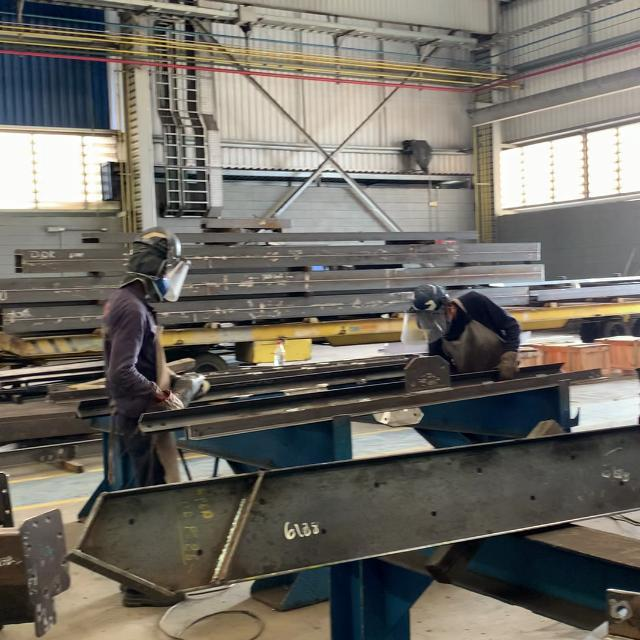face-shield: (402, 312, 448, 345), (161, 257, 191, 303)
glove: (498, 351, 520, 378), (161, 393, 187, 412)
helmet: (132, 228, 192, 259), (411, 280, 447, 311)
person: (104, 225, 211, 410), (400, 280, 520, 378)
safety-shoe: (122, 590, 187, 609)
